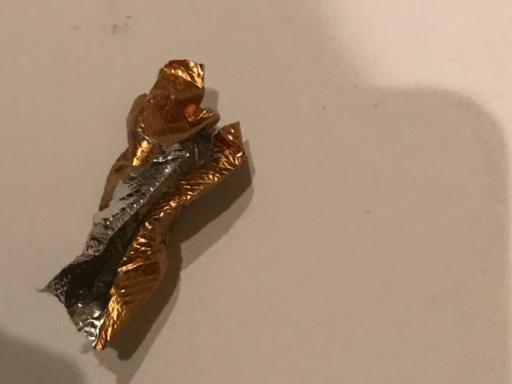trash: (36, 57, 253, 358)
